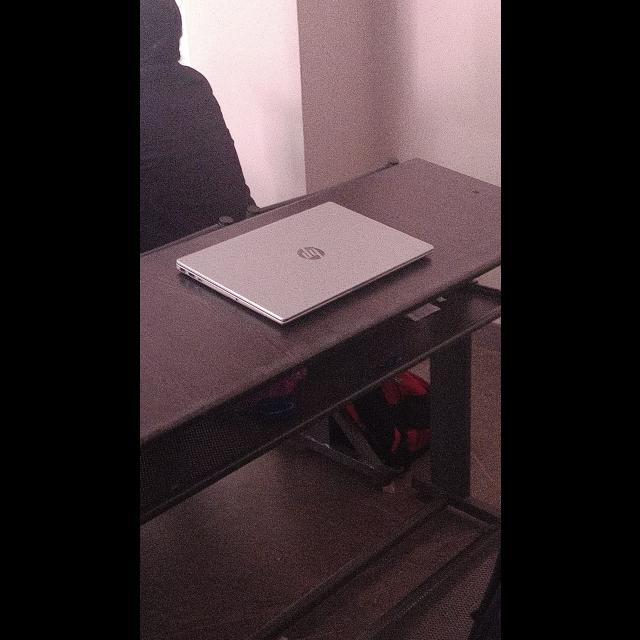laptop: (166, 188, 442, 328)
